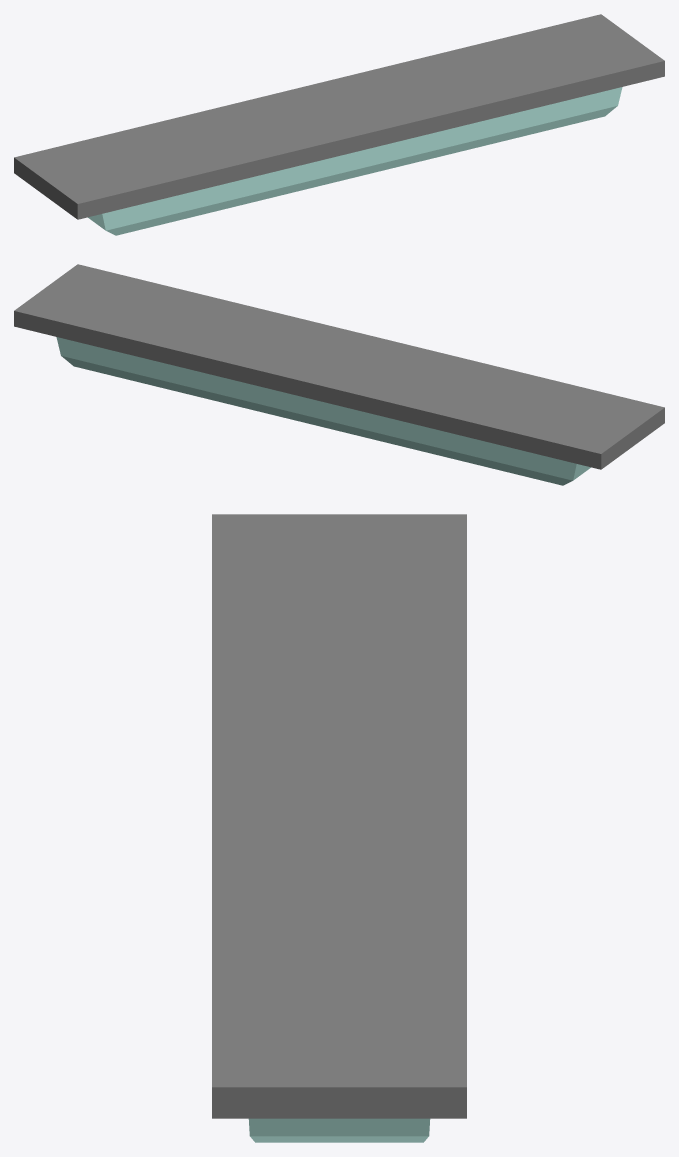
Rendered from UnderLight.fbx.
The picture shows the model from 3 angles, top to bottom: view 1: azimuth 30°, elevation 25°; view 2: azimuth 150°, elevation 25°; view 3: azimuth 270°, elevation 25°; orthographic projection. The views are drawn at different scales.
Parts seen in each view (by area): view 1: UnderLight1; view 2: UnderLight1; view 3: UnderLight1.
Part boxes in pixels (bbox=[...]): UnderLight1: bbox=[14, 14, 664, 235]; UnderLight1: bbox=[14, 264, 664, 485]; UnderLight1: bbox=[212, 514, 466, 1142].
Size of the model in its own units: 21.04 by 112 by 9.38.
